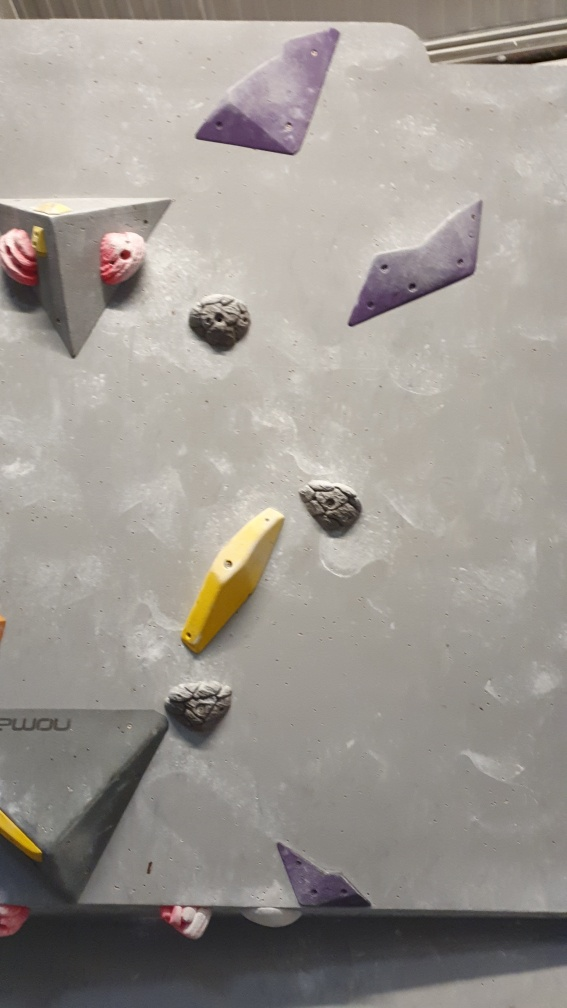Jug: (162, 677, 236, 734), (185, 294, 255, 353), (301, 479, 365, 539), (92, 227, 151, 290), (154, 897, 216, 945), (1, 230, 41, 295)
Pinch: (176, 497, 286, 660)
